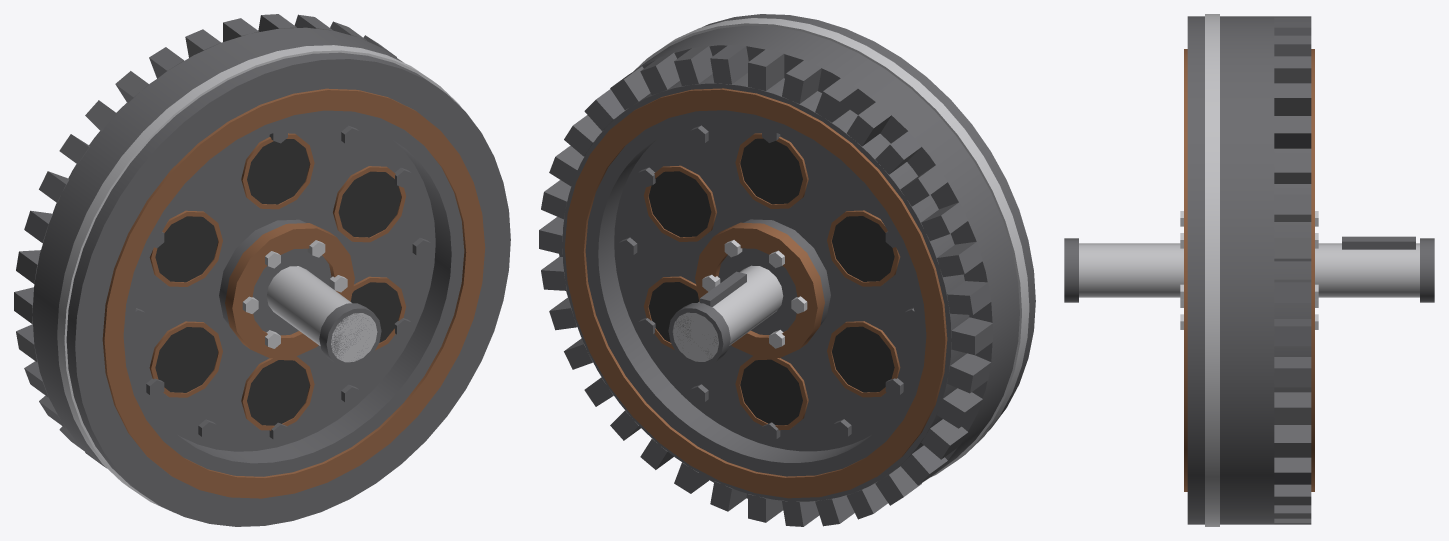
The model's file is feFlywheel.fbx.
3 views of the same model, side by side, from view 1: azimuth 30°, elevation 25°; view 2: azimuth 150°, elevation 25°; view 3: azimuth 270°, elevation 25° (orthographic).
Visible parts, largest first — view 1: feFlywheel; view 2: feFlywheel; view 3: feFlywheel.
Boxes of the visible parts, x1,y1,x2,y2 form: feFlywheel: (14,14,510,526); feFlywheel: (539,14,1035,526); feFlywheel: (1064,14,1434,526).
Bounding box in the file's own units: 0.416 × 0.416 × 0.3.
